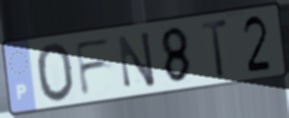2: (241, 13, 274, 75)
8: (159, 25, 194, 86)
F: (72, 35, 114, 99)
N: (115, 28, 158, 90)
O: (34, 41, 77, 106)
T: (199, 17, 230, 81)
